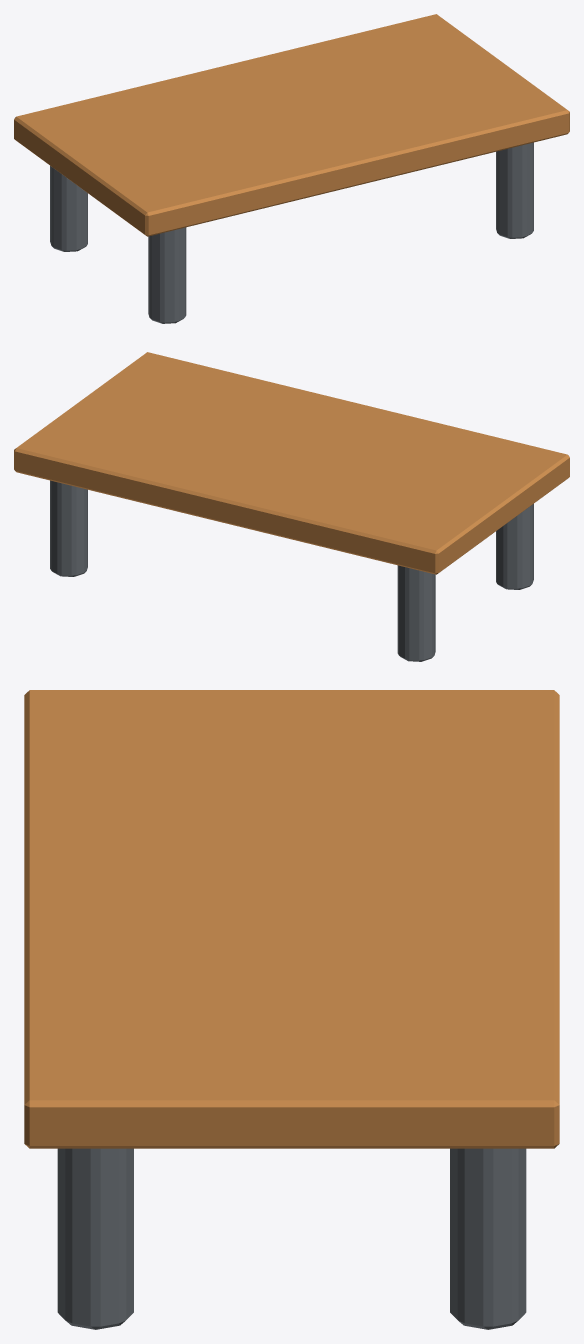
Rendered from dock.glb.
The picture shows the model from 3 angles, top to bottom: view 1: azimuth 30°, elevation 25°; view 2: azimuth 150°, elevation 25°; view 3: azimuth 270°, elevation 25°; orthographic projection. The views are drawn at different scales.
Visible parts, largest first — view 1: dock; view 2: dock; view 3: dock.
Boxes of the visible parts, x1,y1,x2,y2 form: dock: [14, 14, 569, 323]; dock: [14, 352, 569, 661]; dock: [24, 690, 559, 1329].
Bounding box in the file's own units: 1.1 × 0.31 × 0.6.
